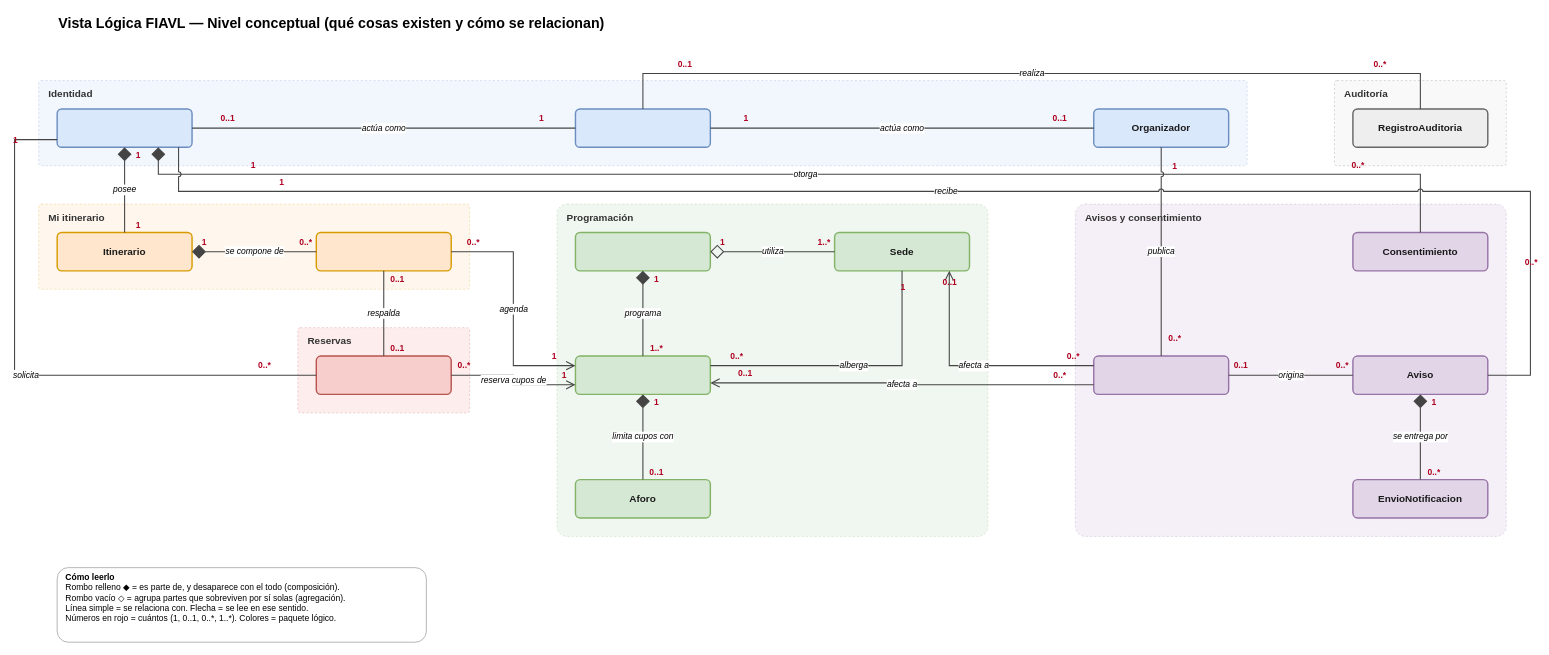
Some shapes in this 1549 by 655 pixel diagram are drawn without their labels. Here are the shapes that lost their labels. From the top down, the centre of each, then its label:
At point (124, 128): "Asistente".
At point (642, 128): "Persona".
At point (383, 251): "ItemItinerario".
At point (642, 251): "EdicionFestival".
At point (383, 375): "ReservaCupo".
At point (642, 375): "Actividad".
At point (1161, 375): "AlertaOperativa".
